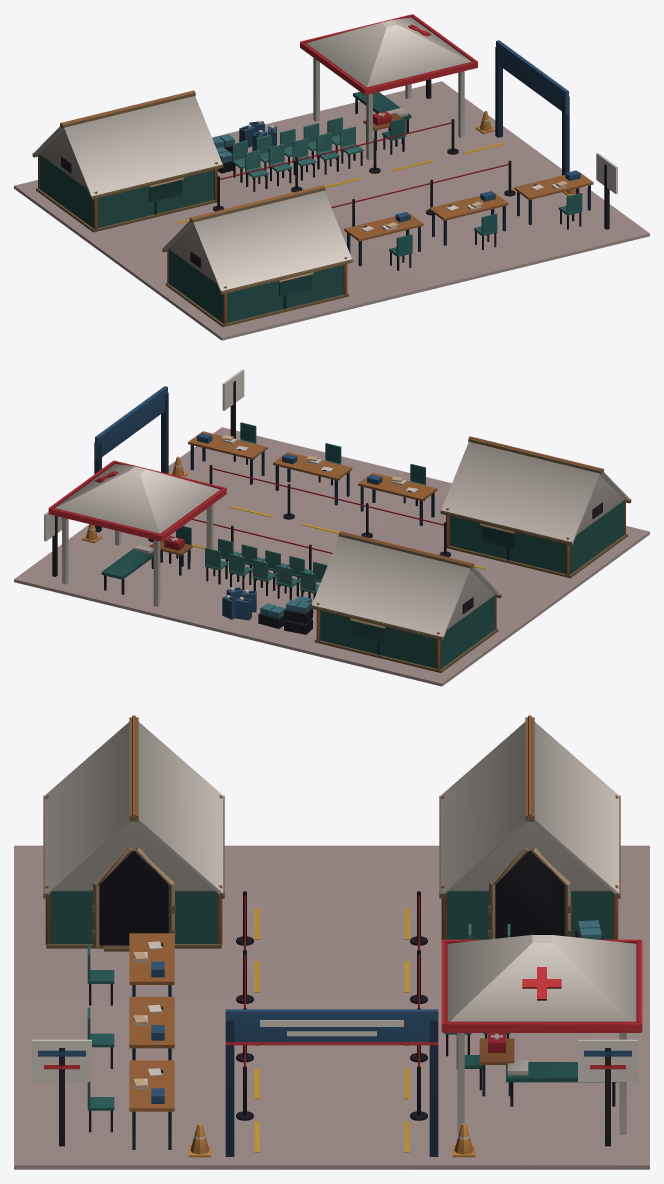
File: kit.reception-plaza.lod1.glb
3 renders of one model, top to bottom at view 1: azimuth 30°, elevation 25°; view 2: azimuth 150°, elevation 25°; view 3: azimuth 270°, elevation 25°, orthographic. The views are drawn at different scales.
Parts seen in each view (by area): view 1: body; view 2: body; view 3: body.
Boxes of the visible parts, x1=… form: body: x1=14, y1=14, x2=649, y2=340; body: x1=14, y1=369, x2=649, y2=686; body: x1=14, y1=715, x2=649, y2=1169.
Bounding box in the file's own units: 12.6 × 3.03 × 10.6.
